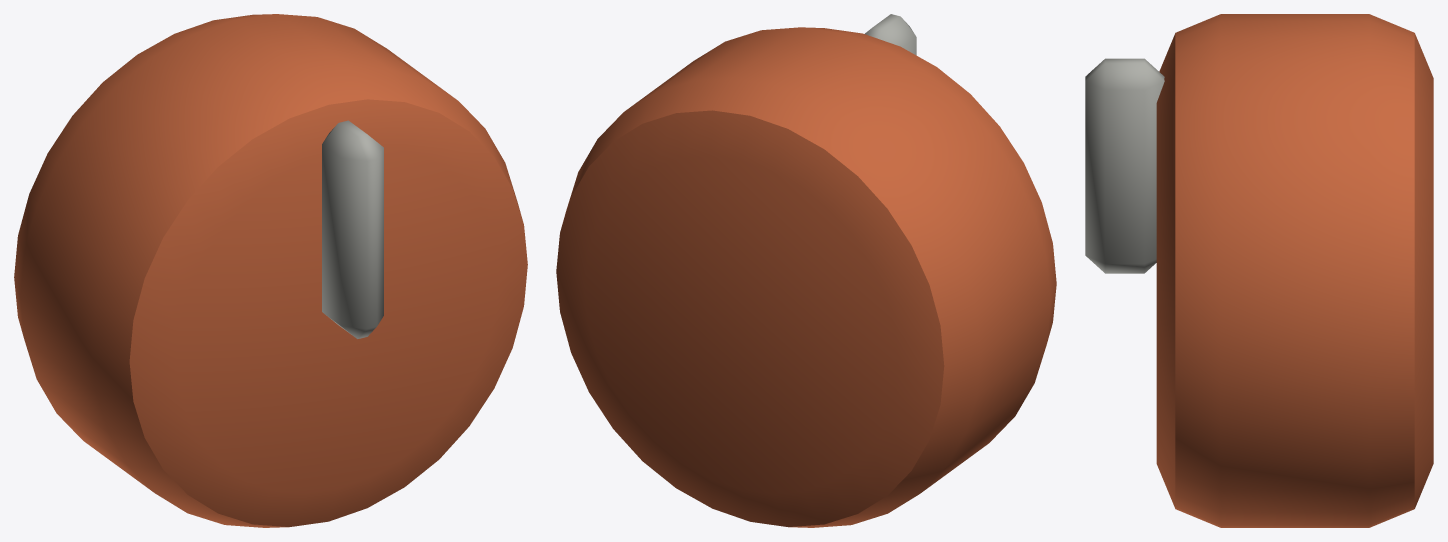
File: tig_torch_flex_head_gas_valve.glb
3 renders of one model, left to right at view 1: azimuth 30°, elevation 25°; view 2: azimuth 150°, elevation 25°; view 3: azimuth 270°, elevation 25°, orthographic. The views are drawn at different scales.
Parts seen in each view (by area): view 1: tig_torch_flex_head_gas_valve; view 2: tig_torch_flex_head_gas_valve; view 3: tig_torch_flex_head_gas_valve.
Boxes of the visible parts, bbox=[...] form: tig_torch_flex_head_gas_valve: bbox=[14, 14, 527, 527]; tig_torch_flex_head_gas_valve: bbox=[556, 14, 1056, 527]; tig_torch_flex_head_gas_valve: bbox=[1085, 14, 1433, 527].
Bounding box in the file's own units: 0.013 × 0.013 × 0.0088.
